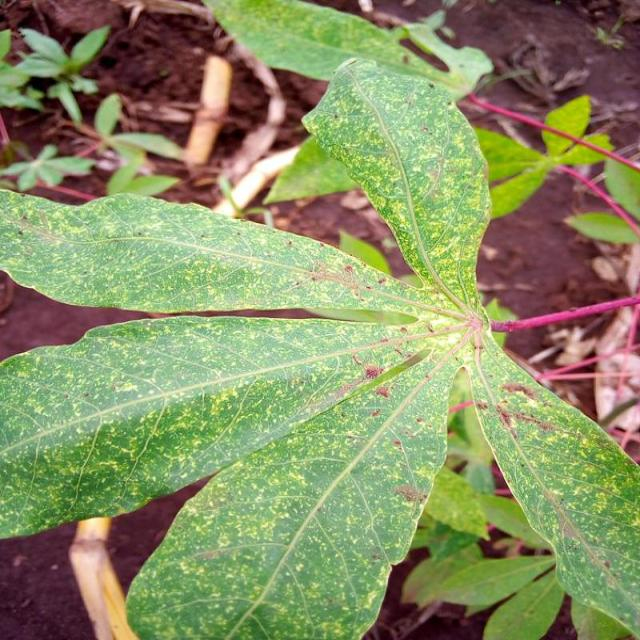cassava leaf: (0, 55, 638, 638), (300, 54, 493, 314)
